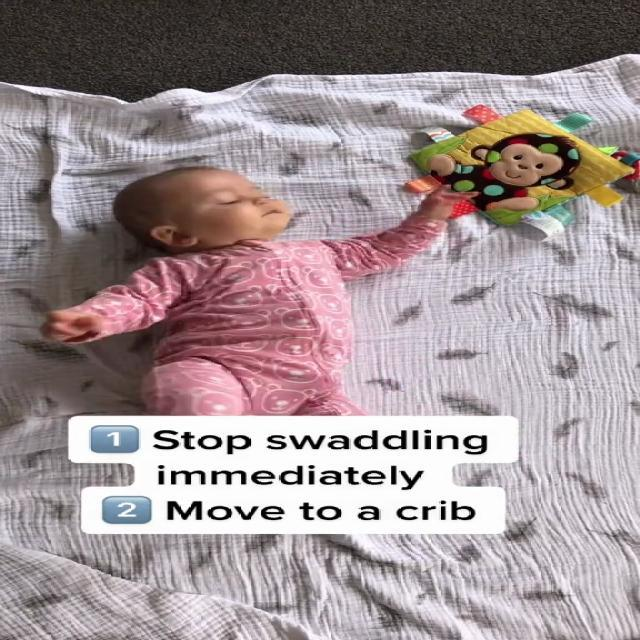baby: (41, 158, 472, 424)
